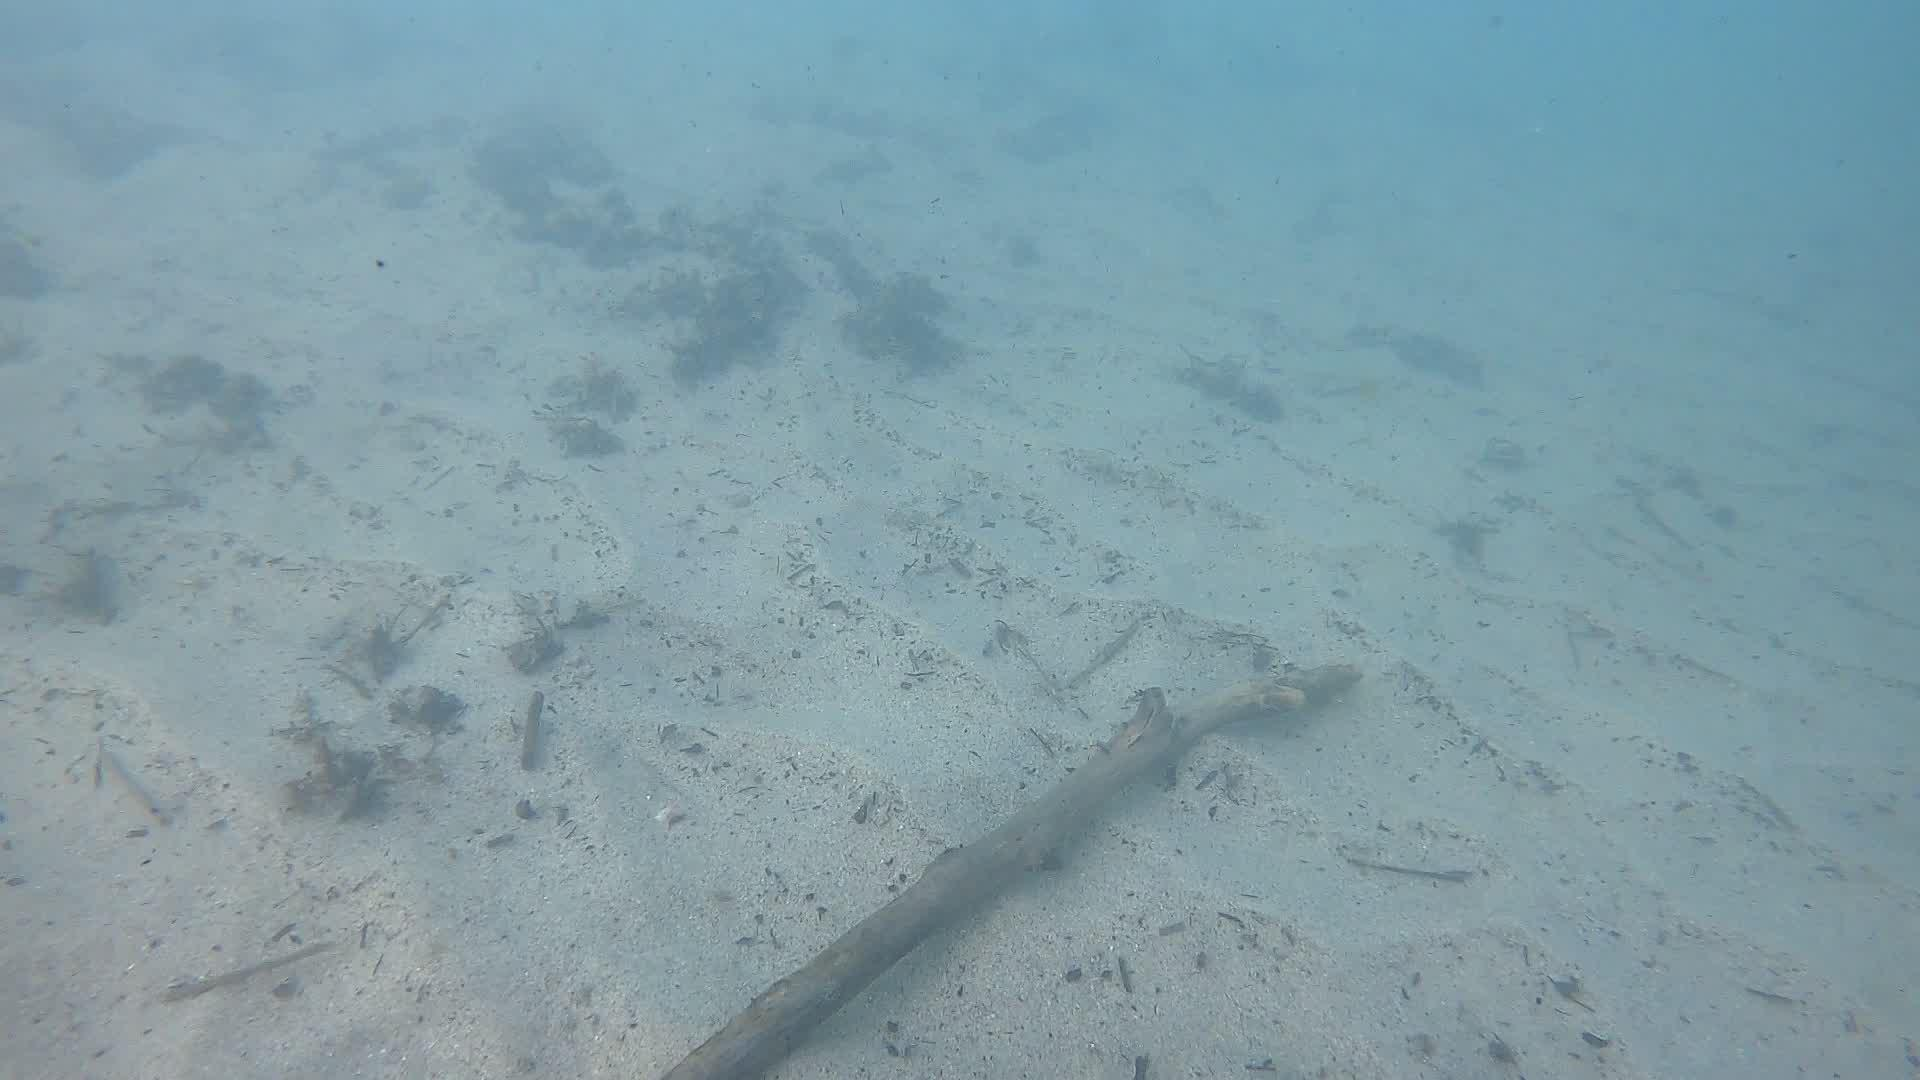wood: (663, 659, 1360, 1080)
